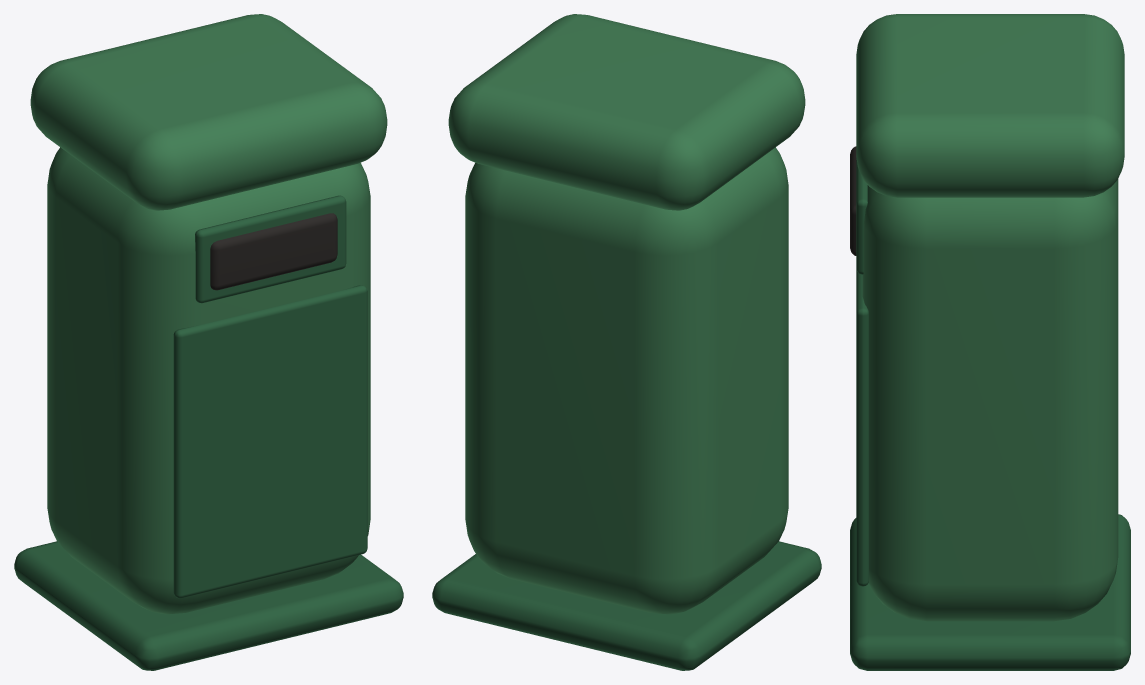
The model's file is street_bin.glb.
The picture shows the model from 3 angles, left to right: view 1: azimuth 30°, elevation 25°; view 2: azimuth 150°, elevation 25°; view 3: azimuth 270°, elevation 25°; orthographic projection. The views are drawn at different scales.
Parts seen in each view (by area): view 1: Body, DoorPanel, Lid, Plinth, Slot, SlotRim; view 2: Body, Lid, Plinth; view 3: Body, Lid, Plinth, DoorPanel, SlotRim, Slot.
Boxes of the visible parts, left/top/right/bottom form: Body: left=47, top=147, right=370, bottom=614; DoorPanel: left=173, top=285, right=367, bottom=598; Lid: left=30, top=14, right=387, bottom=210; Plinth: left=14, top=541, right=403, bottom=670; Slot: left=210, top=213, right=337, bottom=290; SlotRim: left=195, top=195, right=346, bottom=303; Body: left=465, top=147, right=788, bottom=614; Lid: left=448, top=14, right=805, bottom=210; Plinth: left=432, top=541, right=821, bottom=670; Body: left=862, top=179, right=1118, bottom=621; Lid: left=856, top=14, right=1124, bottom=197; Plinth: left=850, top=514, right=1130, bottom=670; DoorPanel: left=856, top=269, right=868, bottom=586; SlotRim: left=856, top=158, right=867, bottom=274; Slot: left=850, top=146, right=856, bottom=255.
Bounding box in the file's own units: 0.5 × 0.94 × 0.44.
